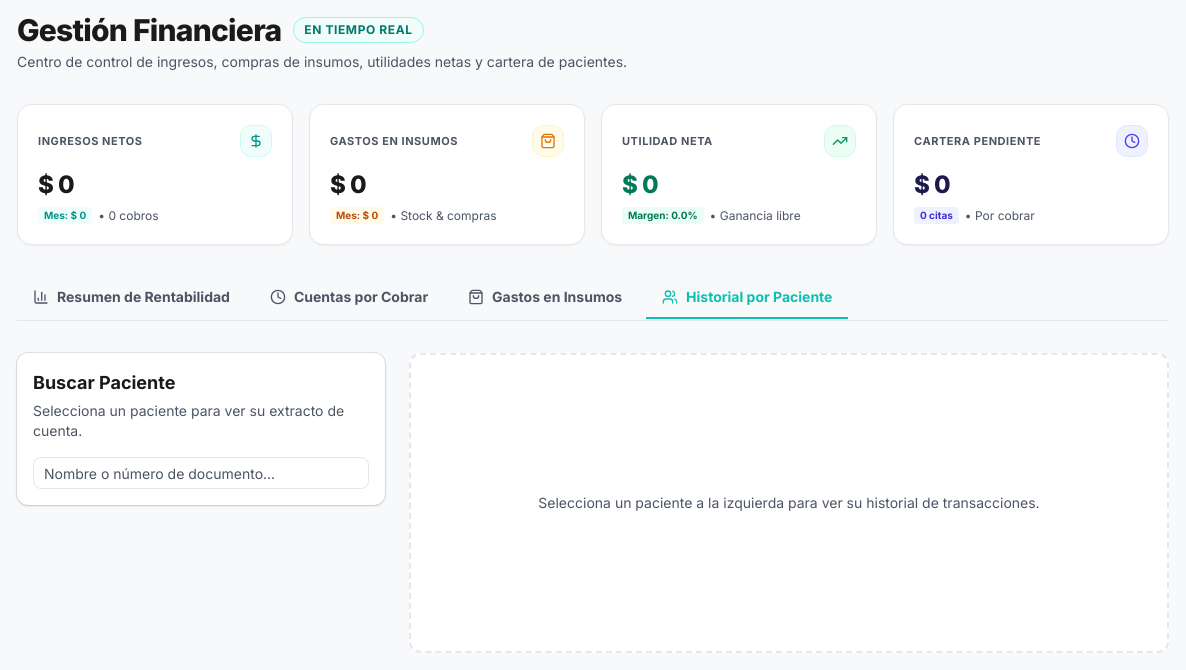
FinanceDashboard Component › 3. seleccionar un paciente lo fija, oculta el buscador y muestra su tarjeta resumen con botón Cambiar
Type "Arturo" into the field with placeholder "Nombre o número de documento...". click: (201, 473)
box: [33,457,369,489]
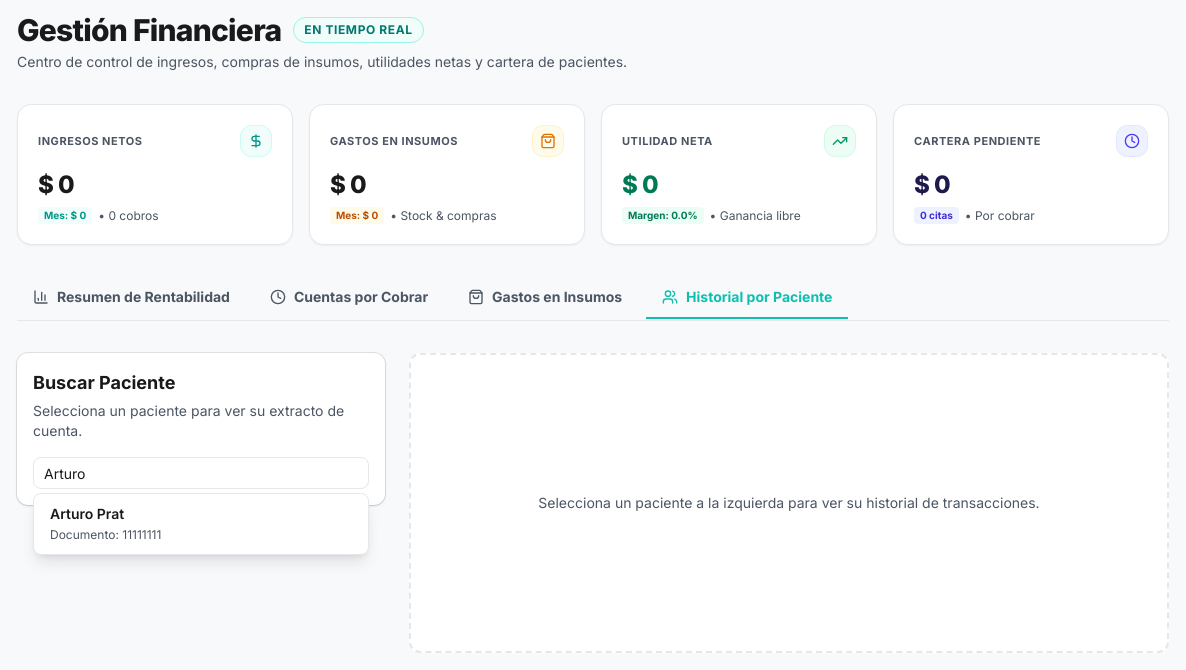
Click the text "Arturo Prat". click: (87, 514)
box: [50,505,124,522]
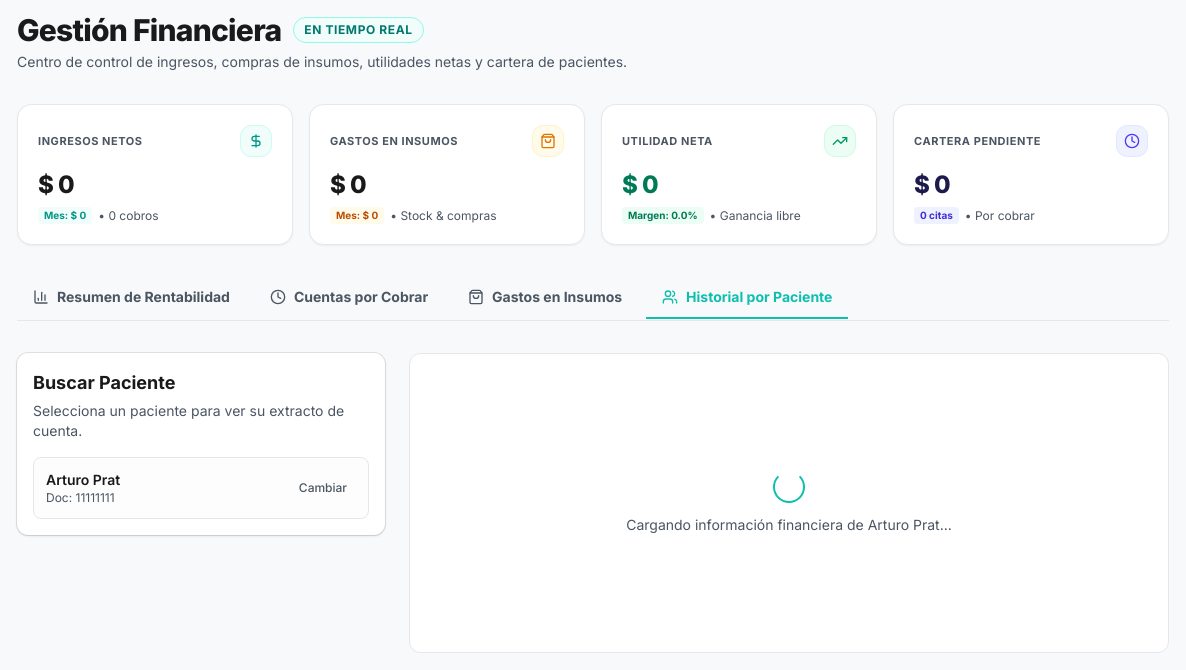
Expected: the field with placeholder "Nombre o número de documento" is not shown
Result: the text "Doc: 11111111" is shown at [46,490,120,506]
Result: the button "Cambiar" is shown
# Click en Cambiar → vuelve el buscador
Click the button "Cambiar". click: (323, 488)
box: [290,474,356,502]
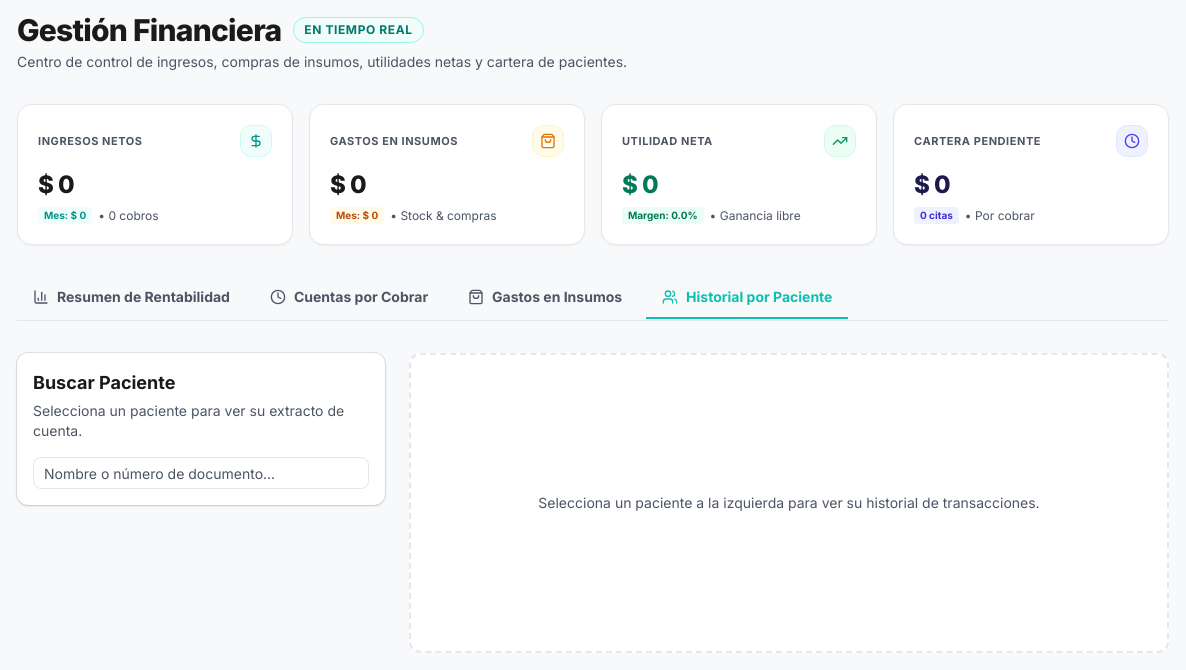
Result: the field with placeholder "Nombre o número de documento..." is shown at [33,457,369,489]
